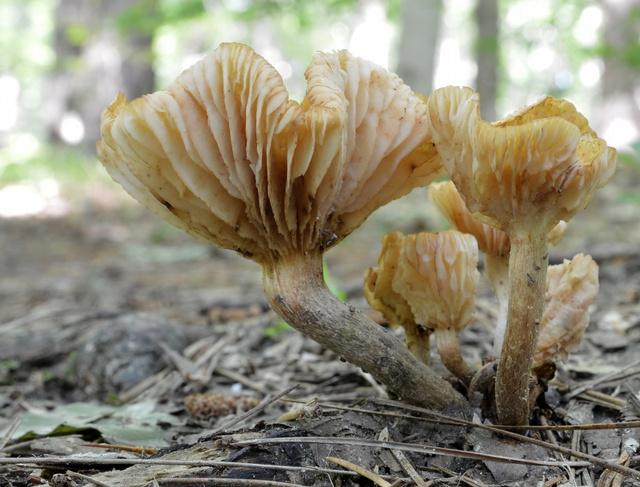Edible Mushroom: (95, 40, 468, 413), (425, 83, 618, 435)
